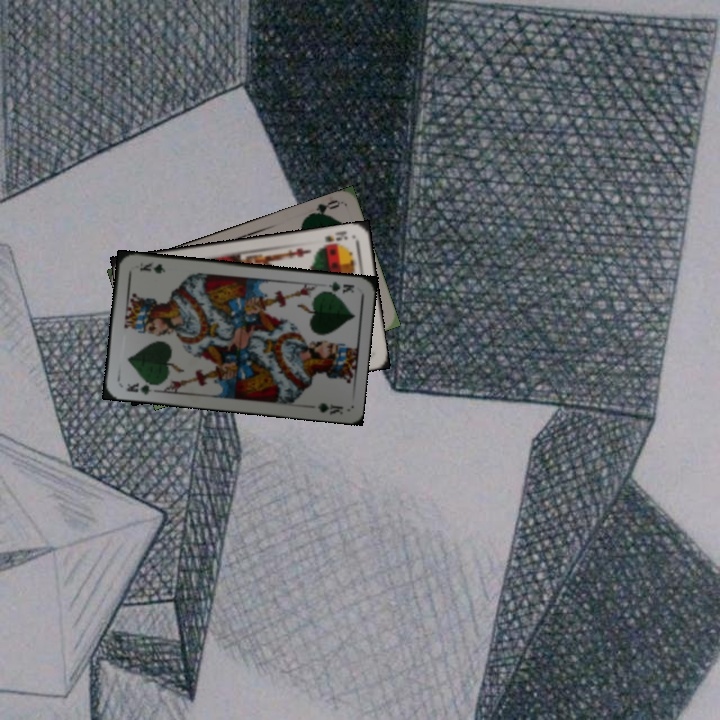GK: (318, 277, 357, 296), (123, 378, 160, 397)
GO: (303, 196, 342, 220)
SK: (321, 227, 350, 244)
